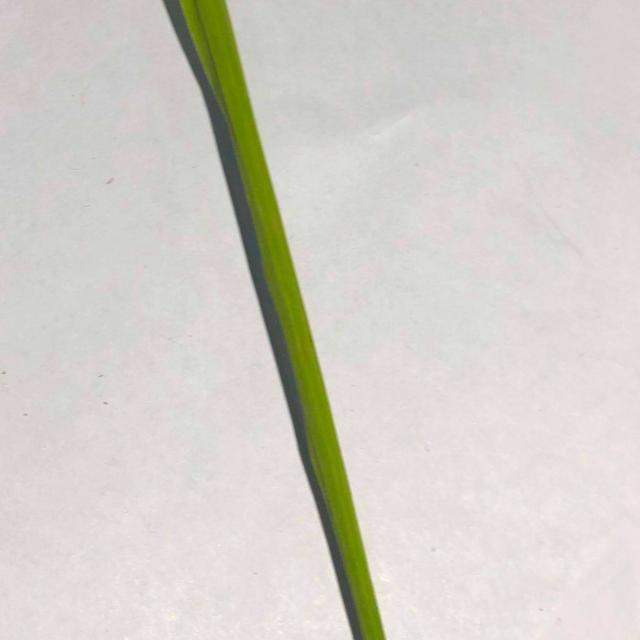Rice_Healthy: (164, 0, 386, 640)
